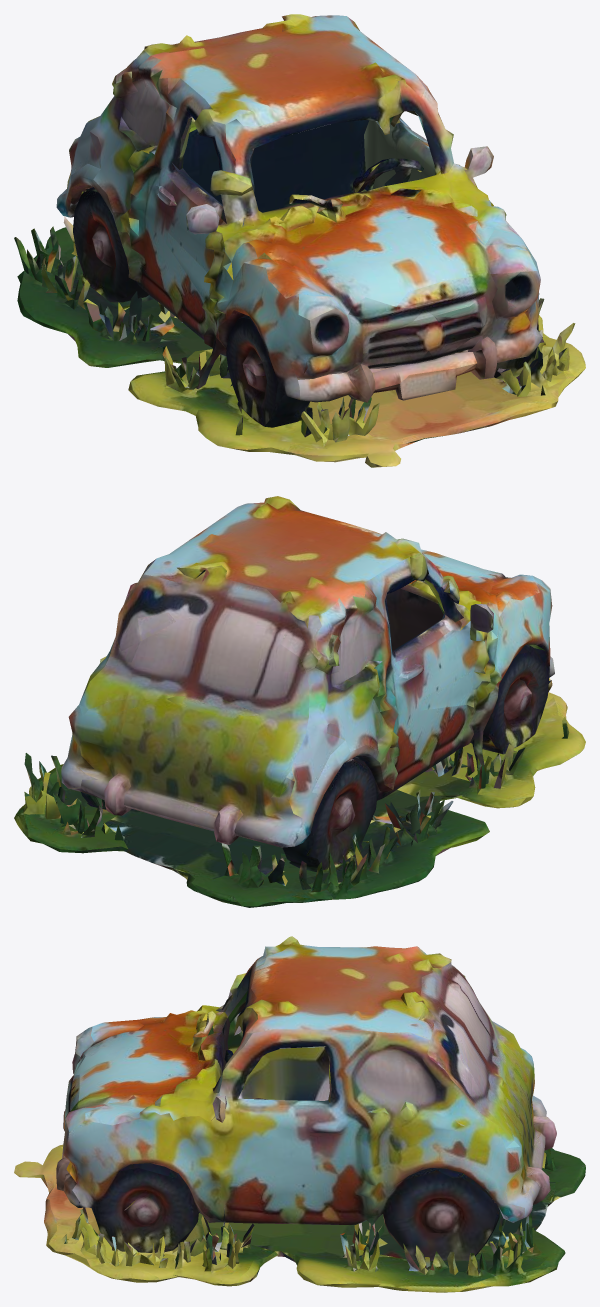
Rendered from ruin_car.glb.
The picture shows the model from 3 angles, top to bottom: view 1: azimuth 30°, elevation 25°; view 2: azimuth 150°, elevation 25°; view 3: azimuth 270°, elevation 25°; orthographic projection. The views are drawn at different scales.
Visible parts, largest first — view 1: ruin_car_s41; view 2: ruin_car_s41; view 3: ruin_car_s41.
Part boxes in pixels (<box>): ruin_car_s41: <box>14,14,585,467</box>; ruin_car_s41: <box>14,496,585,907</box>; ruin_car_s41: <box>14,936,585,1292</box>.
Size of the model in its own units: 0.7289 by 0.4437 by 1.
Materials: 1 (1 with a texture image).
